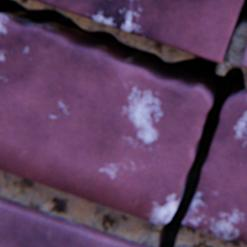brick: (38, 0, 243, 62), (0, 195, 155, 246), (241, 46, 246, 66), (180, 243, 192, 246)
broken_brick: (0, 13, 212, 223), (183, 89, 246, 242)
crack: (0, 0, 245, 246), (226, 0, 246, 50), (240, 233, 244, 238)
